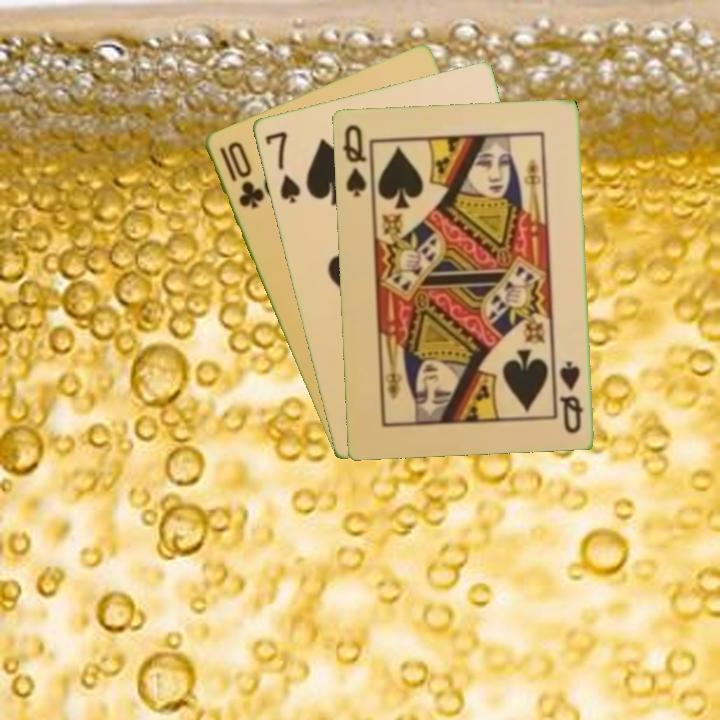10c: (215, 137, 266, 212)
7s: (261, 127, 303, 206)
Qs: (339, 120, 369, 199), (555, 356, 585, 435)
